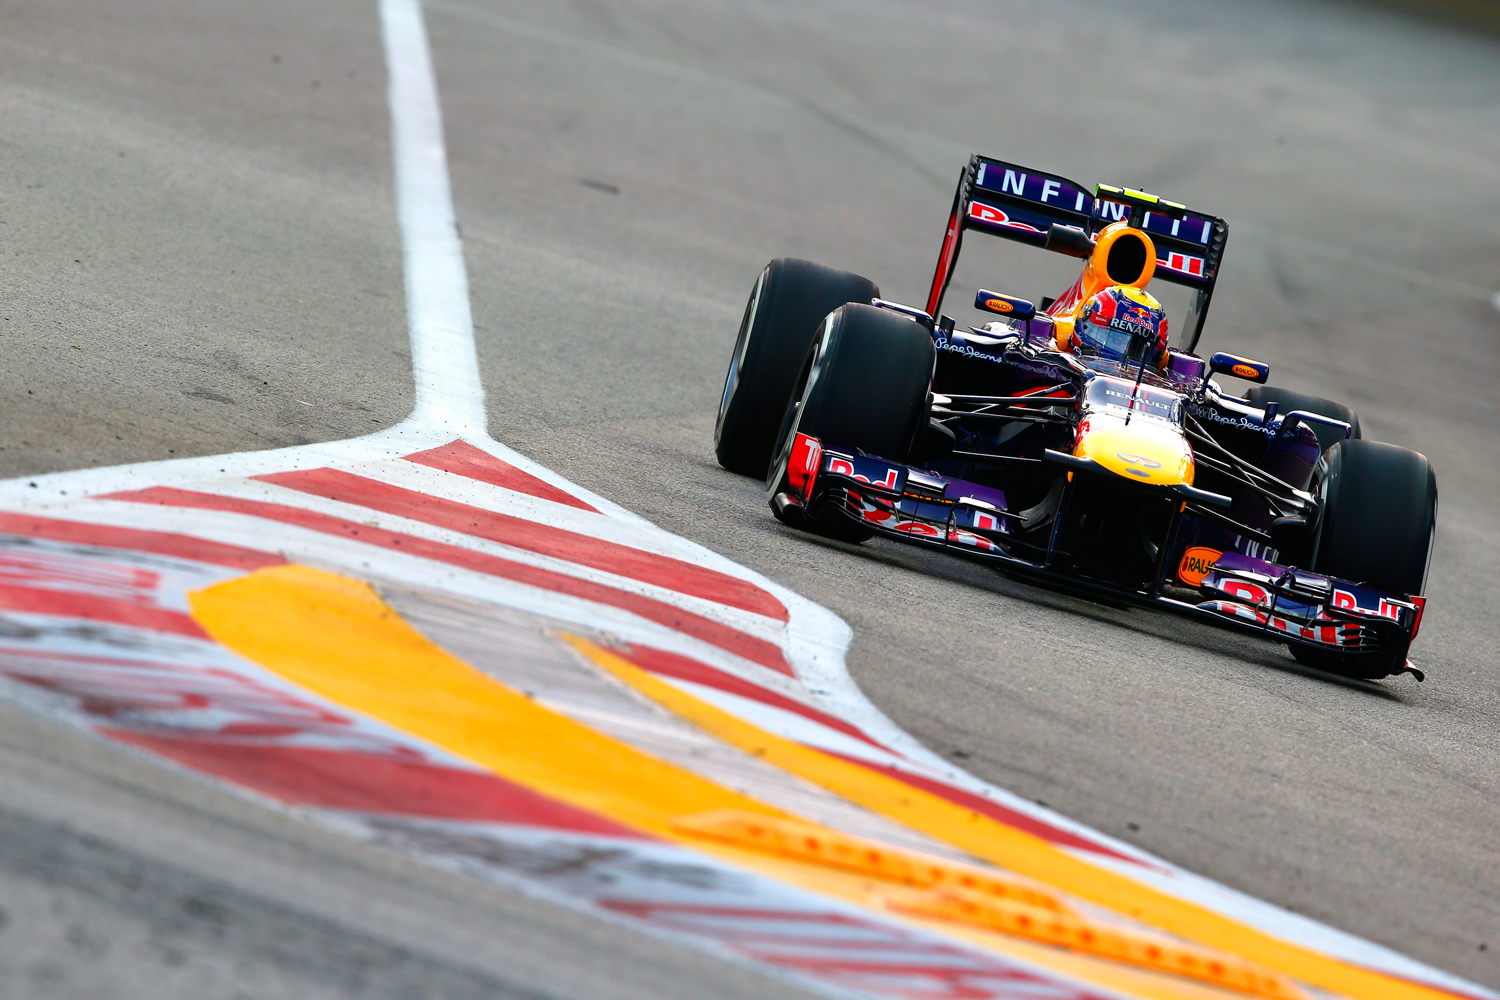race car: (706, 152, 1441, 712)
